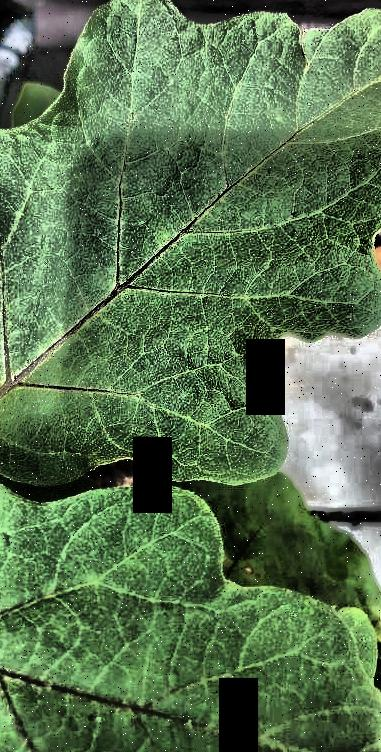HEALTHY: (83, 0, 381, 513)
